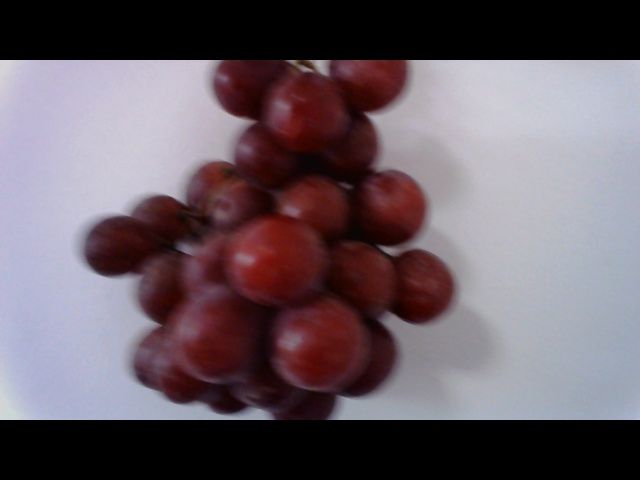grape: (58, 55, 461, 418)
